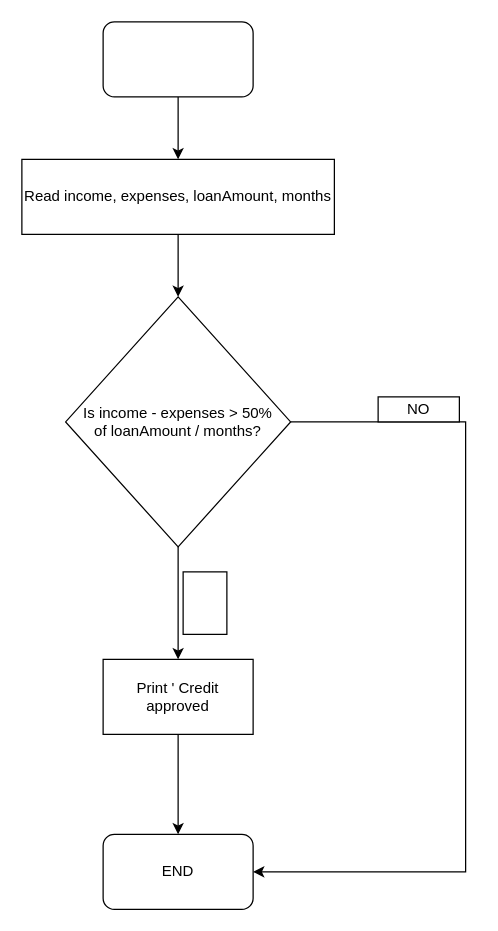
Some shapes in this 498 by 931 pixel diagram are drawn without their labels. The shapes that lost their labels are listed below. From the top down, each one's centre as x and y in pixels, then its label:
the point at 177,59: START
the point at 204,602: Yes
